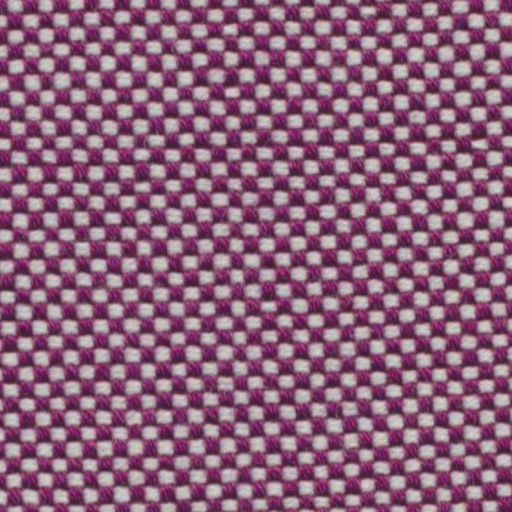TuoSha: (22, 108, 496, 186)
